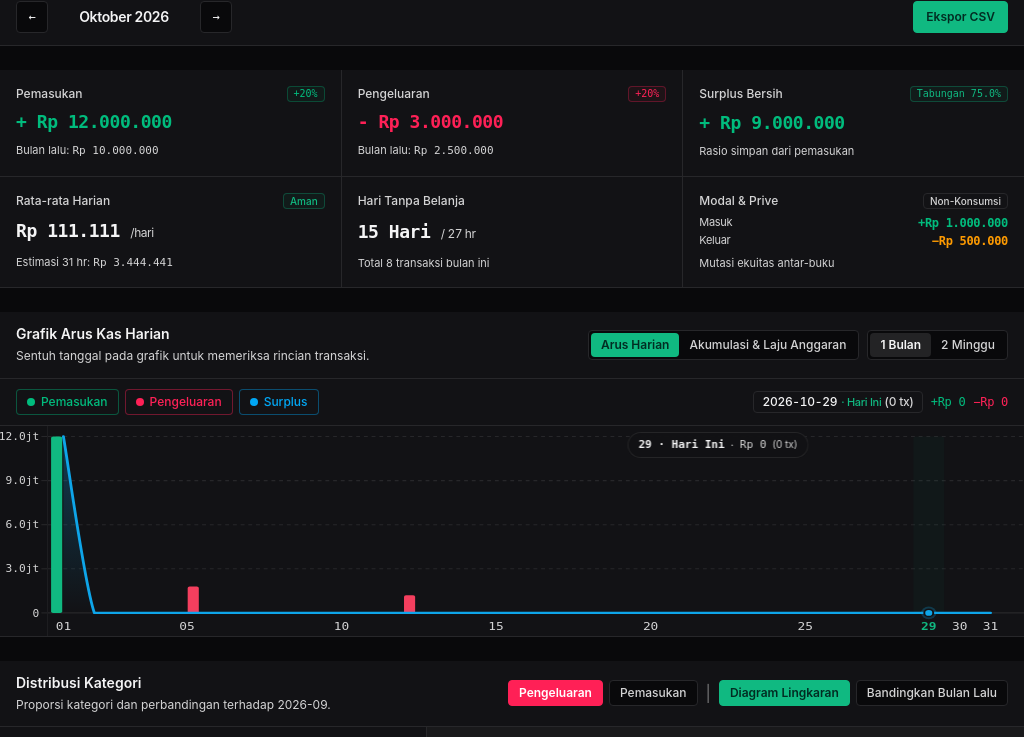
MonthlyReportPage & Interactive Charts › renders KPIs, interactive charts, account reconciliation, and supports category drill-down
Expected: the text with test id "report-operational-income" shows "Rp 12.000.000", [37,111,172,132]
Expected: the text with test id "report-savings-rate-badge" reads "Tabungan 75.0%", [910,86,1008,102]
// Switch cashflow chart to Cumulative Burn mode
Step 1. Click the button "Akumulasi & Laju Anggaran" → click(768, 345), box [679,333,856,357]
(page scrolled)
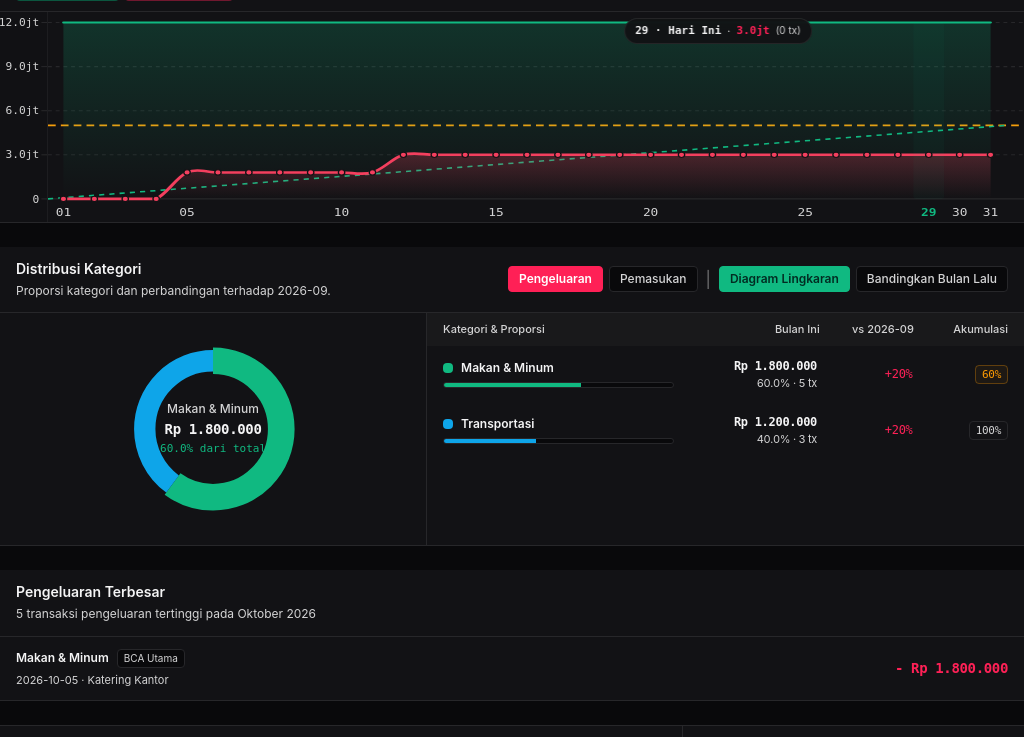
// Click on category row to trigger interactive drill-down filter
Step 2. Click the element with test id "report-category-row-cat-makan" → click(507, 367), box [443,358,1008,390]
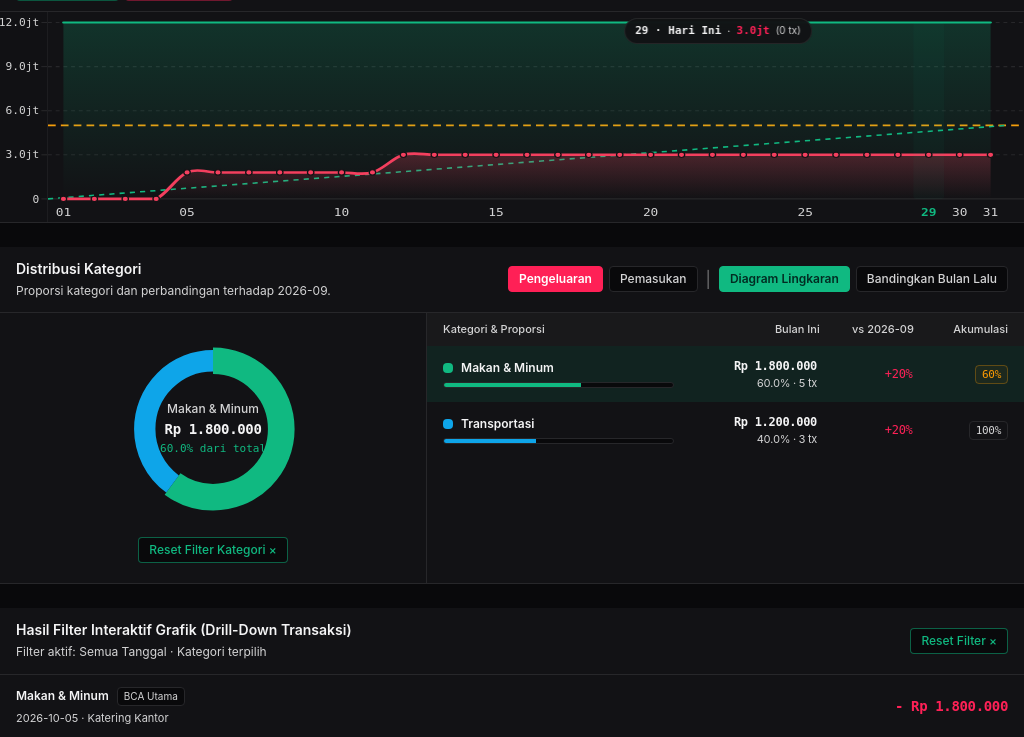
Expected: the heading "Hasil Filter Interaktif Grafik (Drill-Down Transaksi)" is shown, [16,620,352,640]
